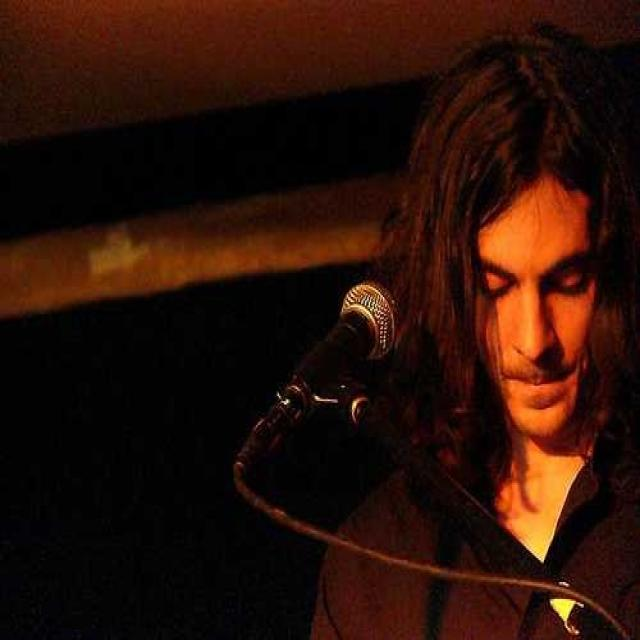microphone: (239, 277, 403, 474)
